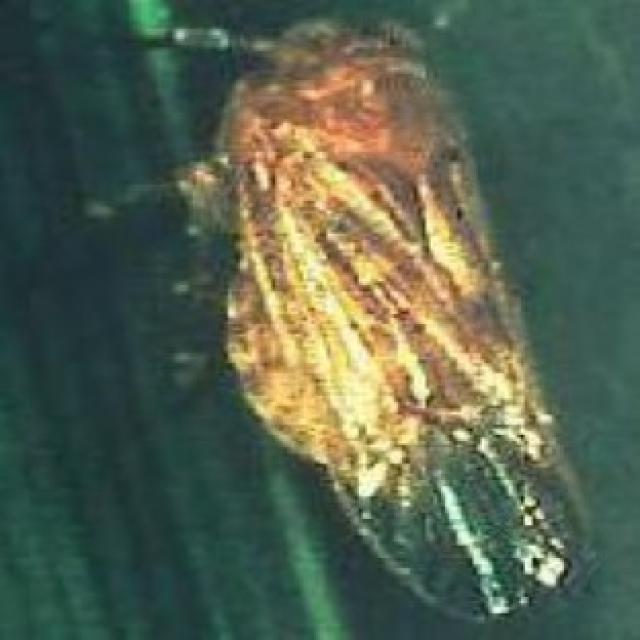brown plant hopper: (178, 21, 585, 617)
